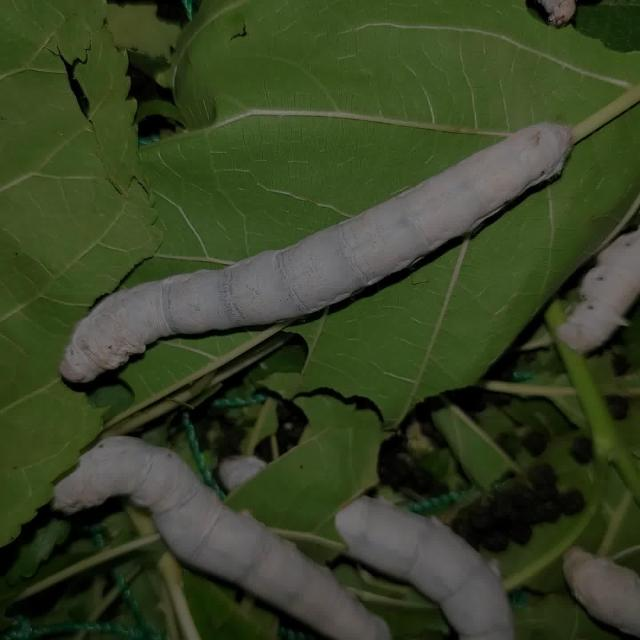Healthy: (43, 111, 581, 388)
